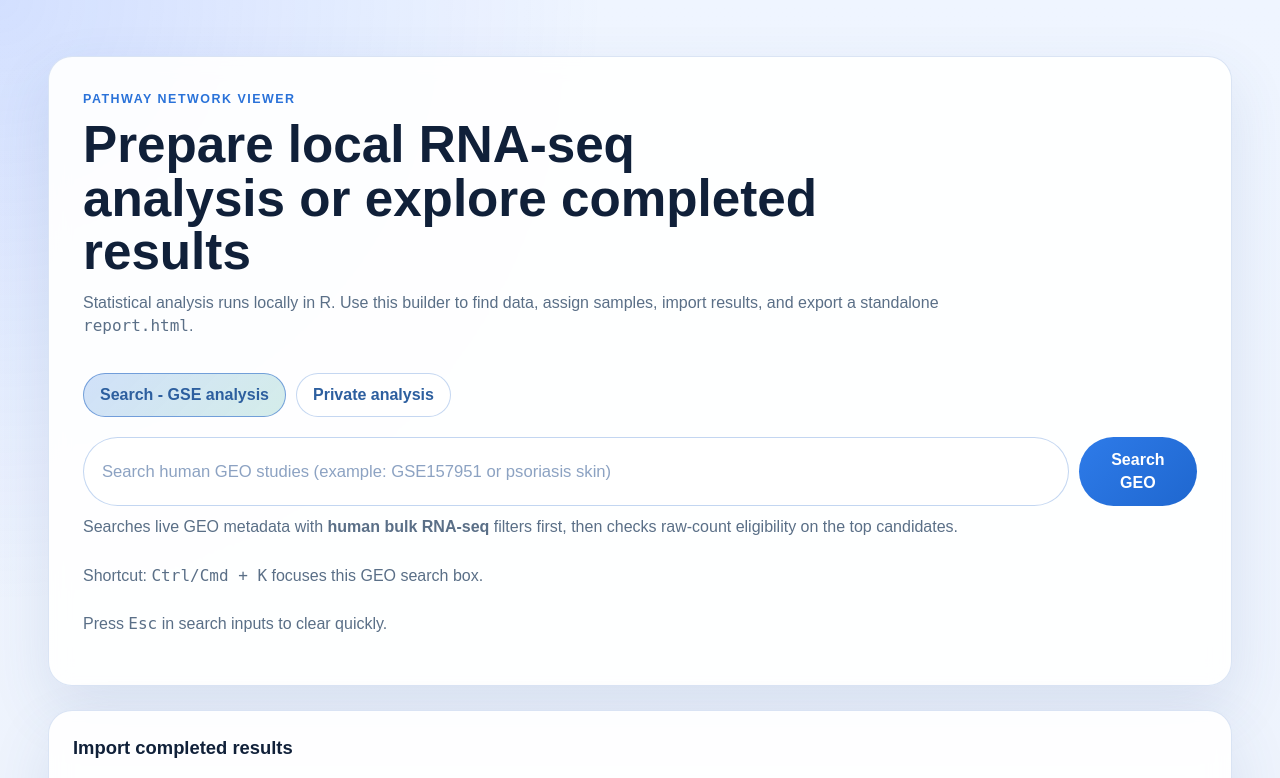
App GEO search interactions › shows filter match hints and highlights in GEO cards
This screenshot has width=1280, height=778.
Replace the text in the field with placeholder "Search human GEO studies" with "psoriasis": {"x": 576, "y": 472} [83,437,1069,506]
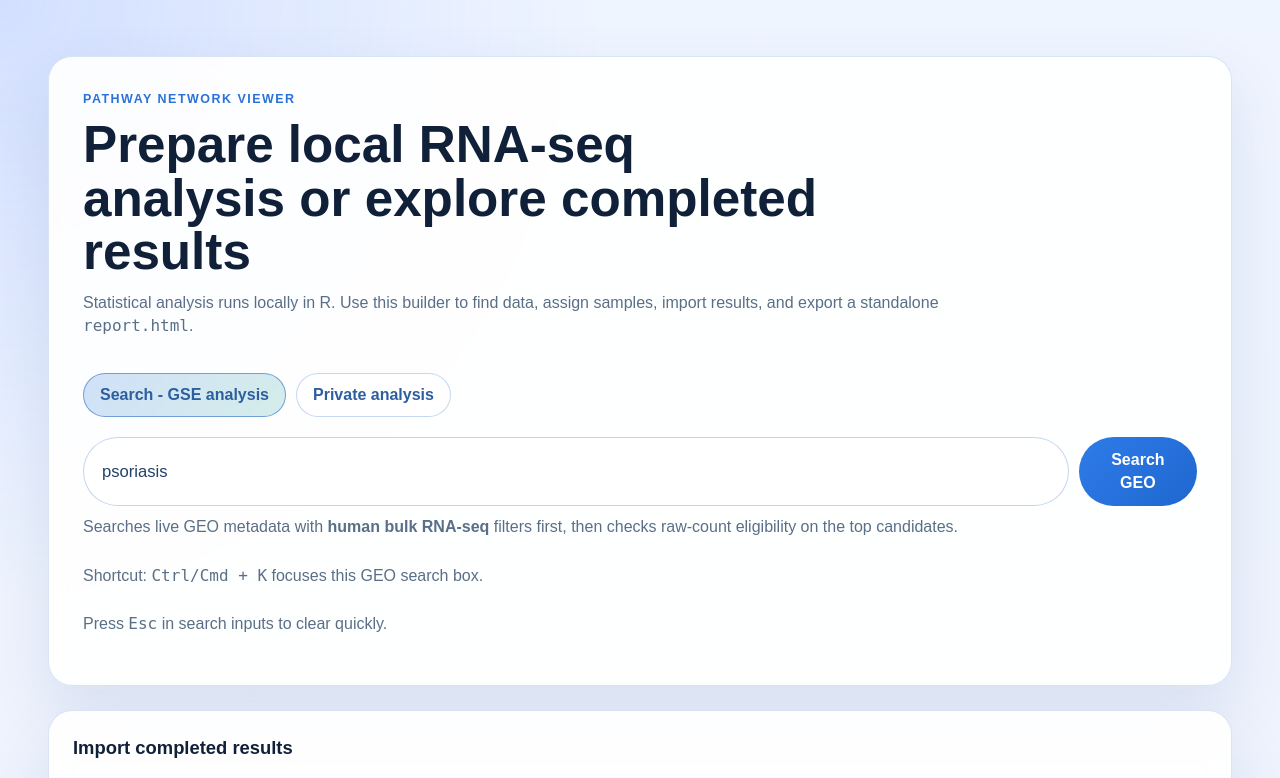
Click the button "Search GEO": {"x": 1138, "y": 472} [1079,437,1197,506]
(page scrolled)
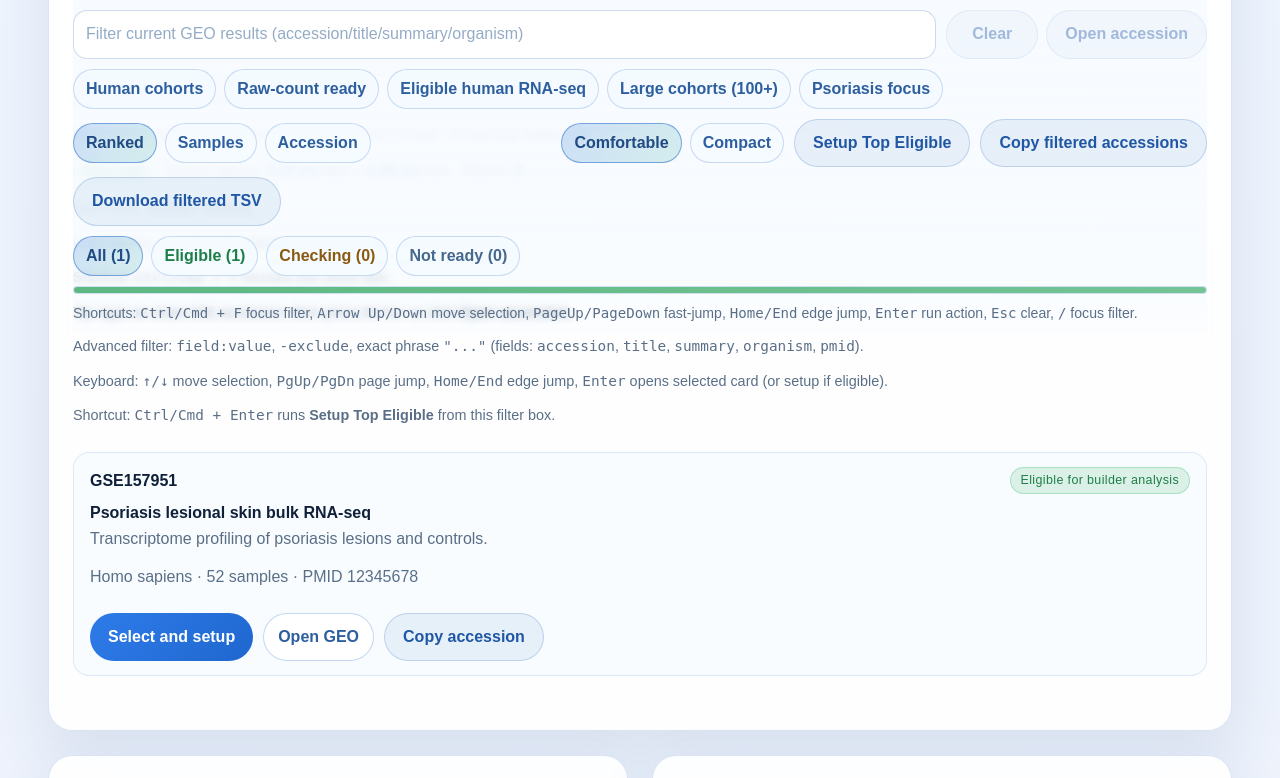
Check: the text "Psoriasis lesional skin bulk RNA-seq" is shown, box [90,504,371,521]
Replace the text in the field with placeholder "Filter current GEO results" with "psoriasis lesion": {"x": 505, "y": 34} [73,10,936,58]
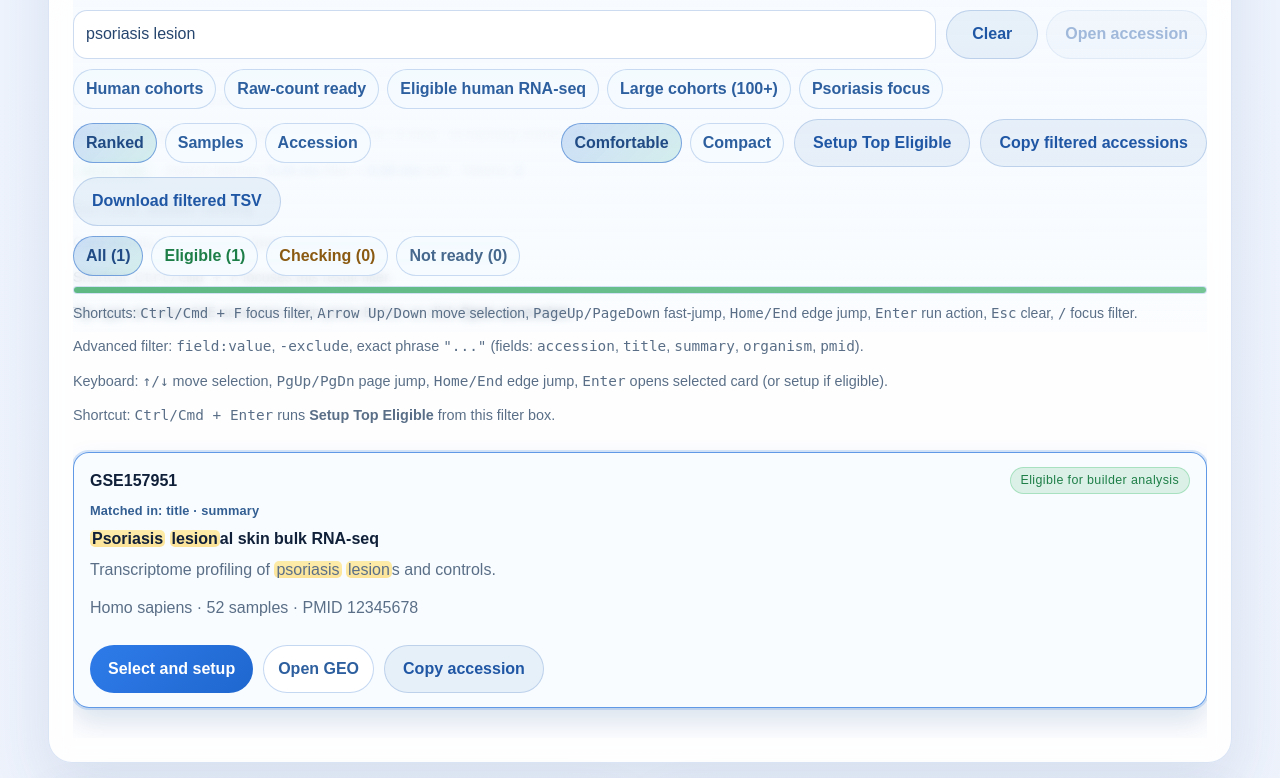
Check: the text "Psoriasis" is shown, box [90,530,165,547]
Check: the text "Matched in: title · summary" is shown, box [90,503,259,518]
